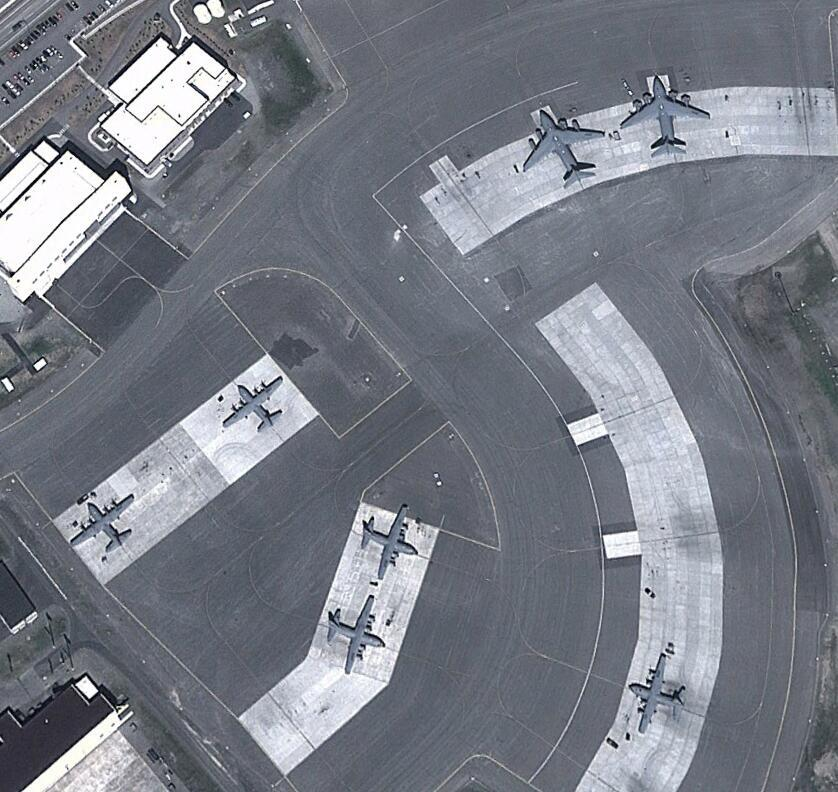A2: (627, 648, 686, 733), (327, 592, 384, 674), (361, 503, 418, 581), (68, 492, 136, 552), (222, 374, 286, 433)
A3: (620, 73, 711, 158), (522, 107, 604, 188)
